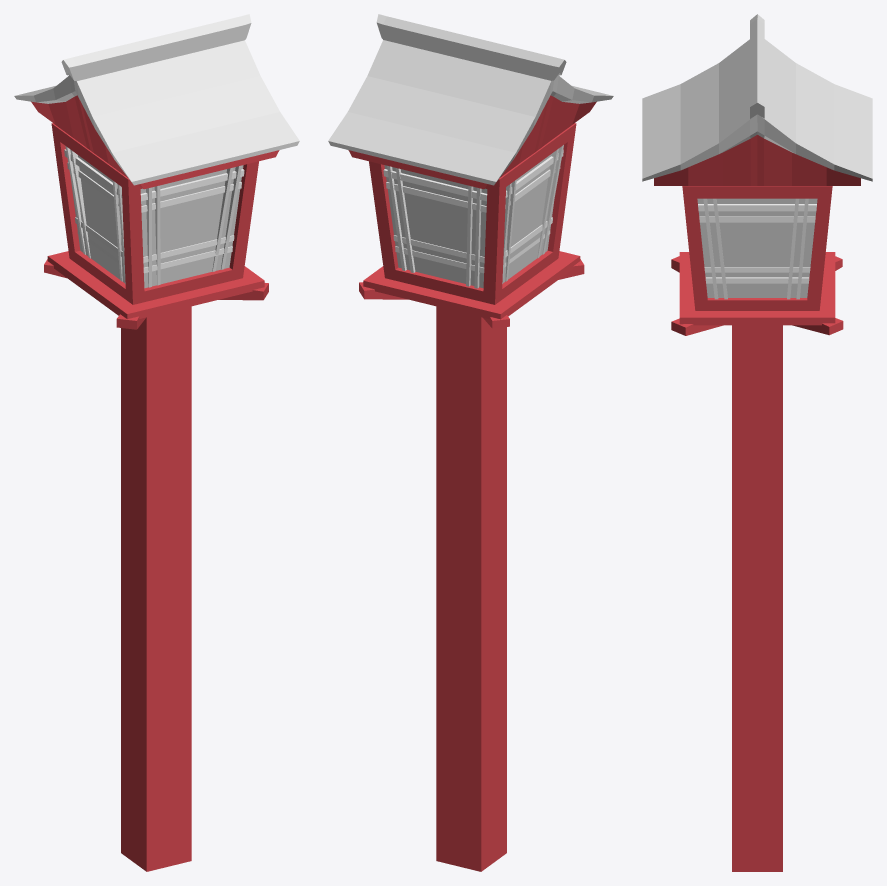
File: woodLantern.fbx
3 views of the same model, side by side, from view 1: azimuth 30°, elevation 25°; view 2: azimuth 150°, elevation 25°; view 3: azimuth 270°, elevation 25° (orthographic). The views are drawn at different scales.
Visible parts, largest first — view 1: Cube.013; view 2: Cube.013; view 3: Cube.013.
Part boxes in pixels (x1,y1,x2,y2): Cube.013: (14, 14, 299, 871); Cube.013: (328, 14, 613, 871); Cube.013: (642, 14, 872, 871).
Size of the model in its own units: 31.32 by 132 by 34.25.
